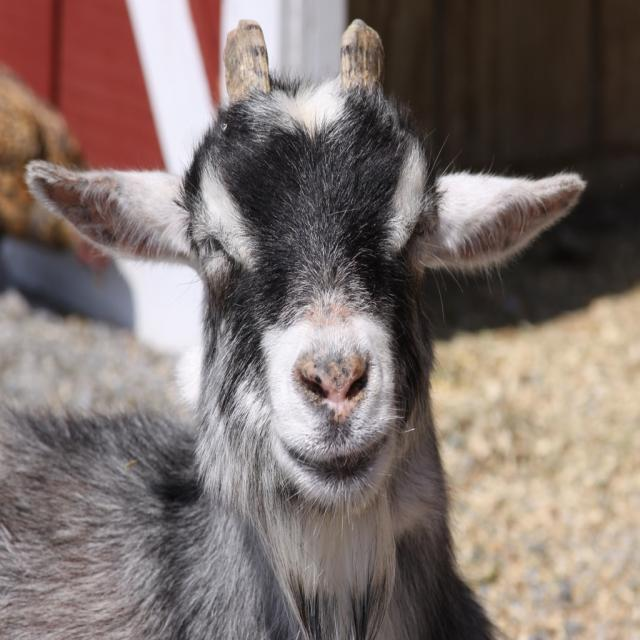Goat: (1, 18, 587, 640)
